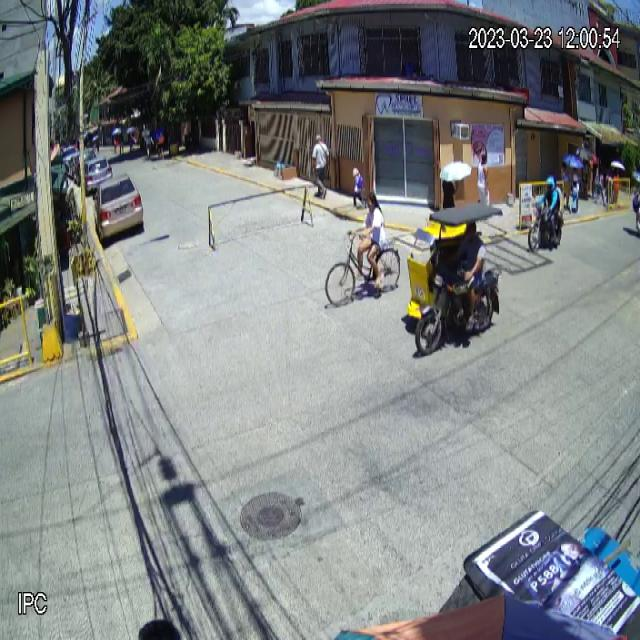Tricycle: (406, 202, 503, 358)
